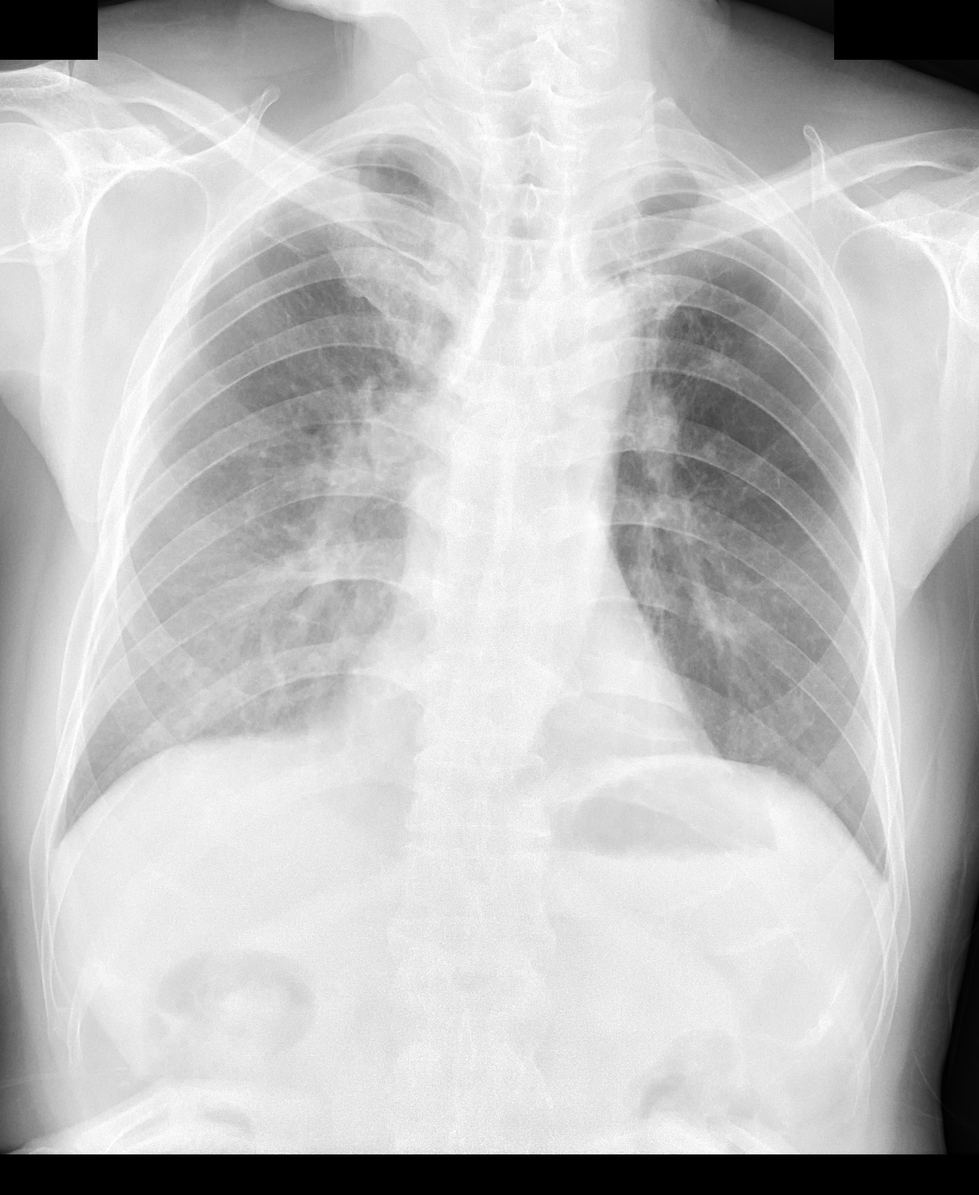Aortic enlargement: (528, 270, 639, 419)
Pleural thickening: (589, 158, 756, 206), (308, 129, 463, 180)
Pulmonary fibrosis: (254, 221, 316, 265), (616, 188, 647, 226)
